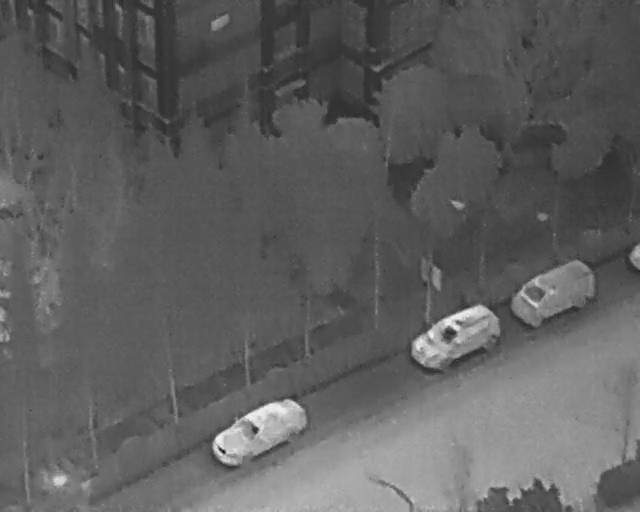Car: (204, 386, 313, 473), (404, 293, 506, 383), (502, 249, 605, 337)
